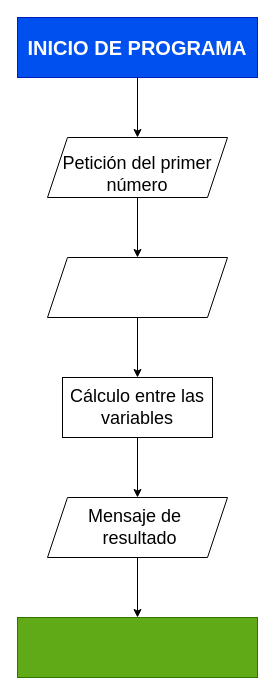
Image size: 275x695. Some labels were removed from this diagram. The shapes that lost their labels are listed below. From the top down, each one's centre as x and y in pixels, then its label:
At pixel 137 287: "Petición del segundo número".
At pixel 137 647: "FIN DE PROGRAMA".
